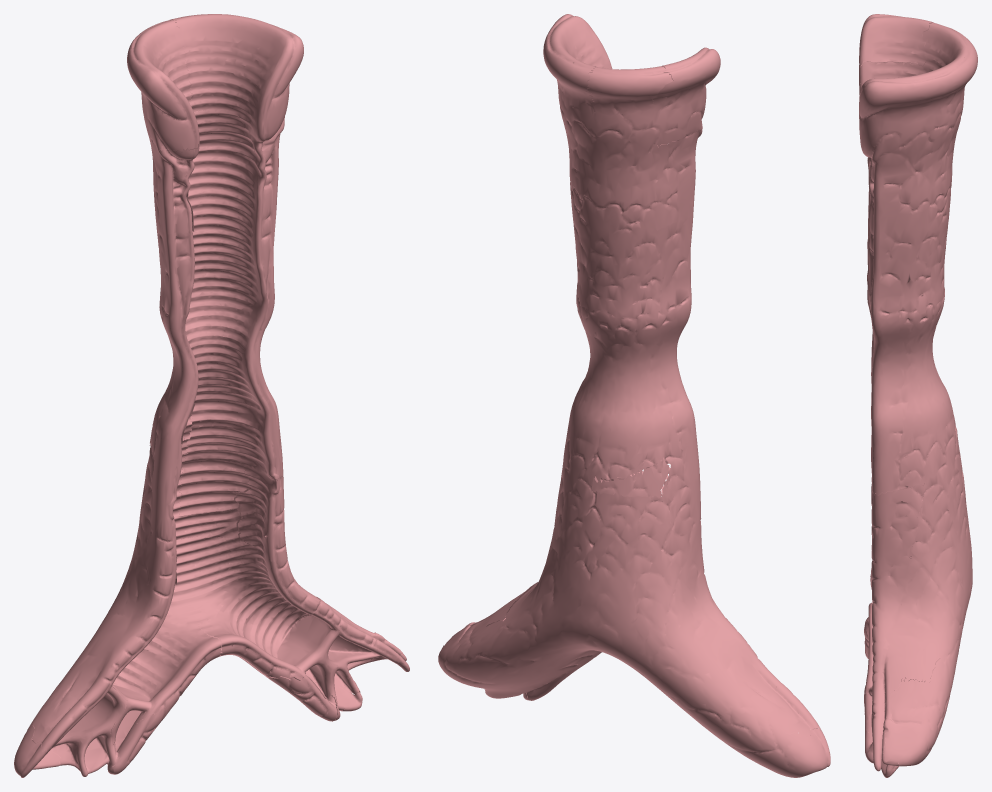
Rendered from trachea-openface-stenosis.glb.
3 views of the same model, side by side, from view 1: azimuth 30°, elevation 25°; view 2: azimuth 150°, elevation 25°; view 3: azimuth 270°, elevation 25° (orthographic). The views are drawn at different scales.
Visible parts, largest first — view 1: trachea-openface-stenosis-01; view 2: trachea-openface-stenosis-01; view 3: trachea-openface-stenosis-01.
Part boxes in pixels (box(x1,y1,x2,y2)): trachea-openface-stenosis-01: box(14, 14, 409, 777); trachea-openface-stenosis-01: box(438, 14, 830, 777); trachea-openface-stenosis-01: box(859, 14, 977, 777).
Bounding box in the file's own units: 1.16 × 2 × 0.3243.
